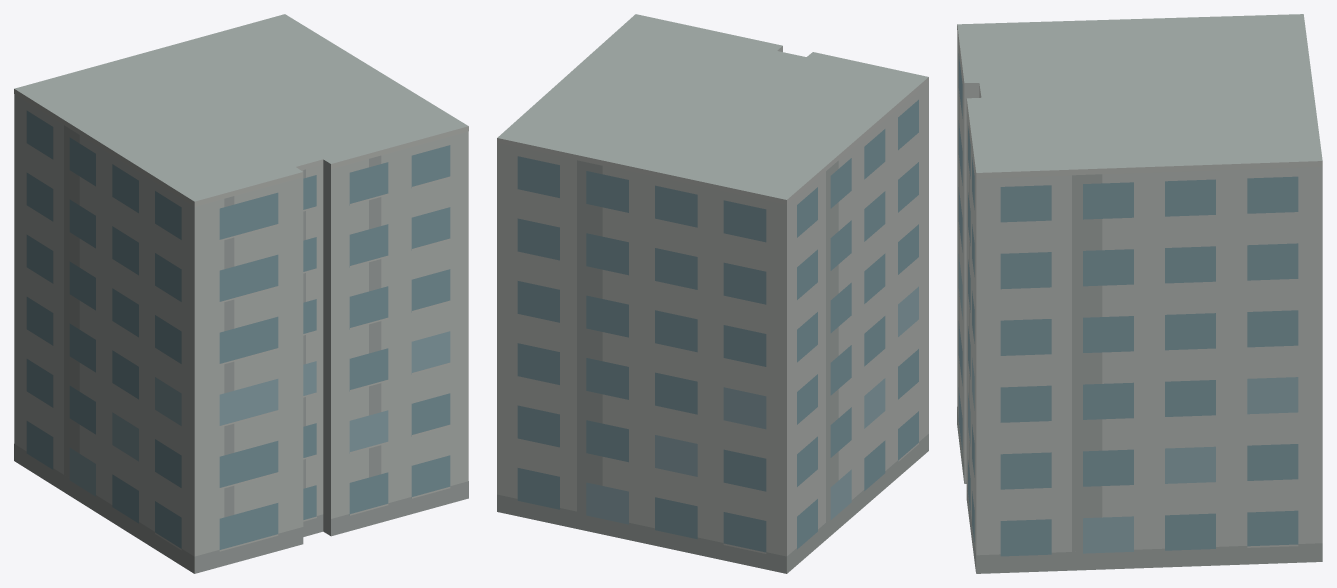
Rendered from survey-upis-33016602.glb.
3 views of the same model, side by side, from view 1: azimuth 30°, elevation 25°; view 2: azimuth 150°, elevation 25°; view 3: azimuth 270°, elevation 25° (orthographic). The views are drawn at different scales.
Visible parts, largest first — view 1: survey-upis-33016602.tmp; view 2: survey-upis-33016602.tmp; view 3: survey-upis-33016602.tmp.
Boxes of the visible parts, <box> form: survey-upis-33016602.tmp: <box>14,14,468,573</box>; survey-upis-33016602.tmp: <box>497,14,928,573</box>; survey-upis-33016602.tmp: <box>957,14,1322,573</box>.
Size of the model in its own units: 14.81 by 17.4 by 14.38.
